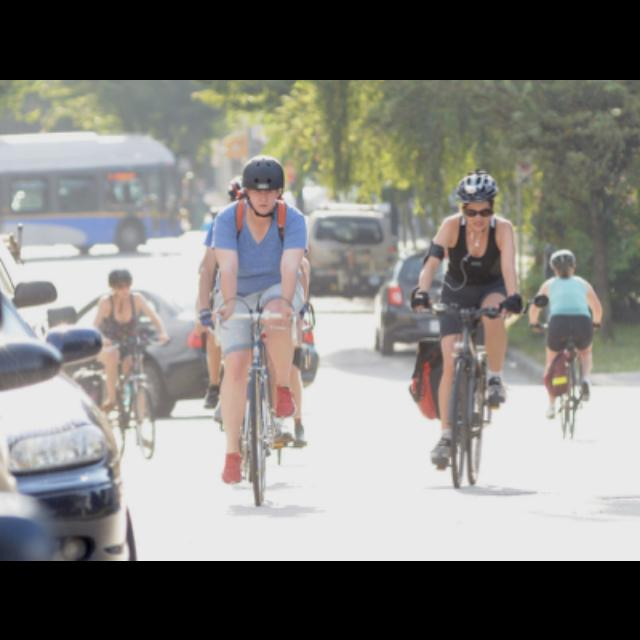With Helmet: (443, 162, 515, 236), (231, 144, 293, 218)
